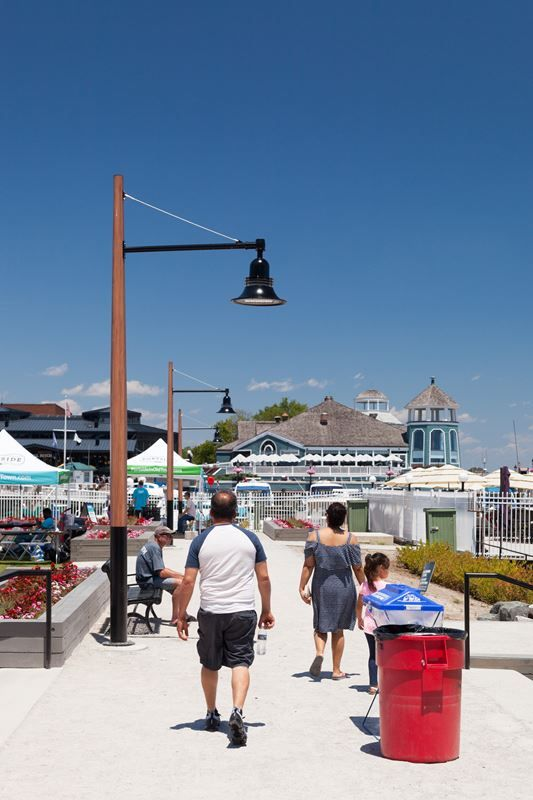light_pole: (103, 164, 136, 642)
